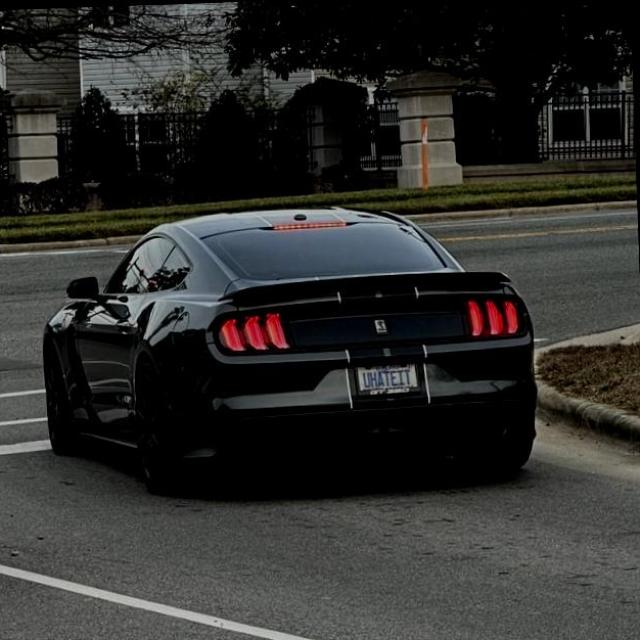LicensePlate: (354, 358, 420, 396)
